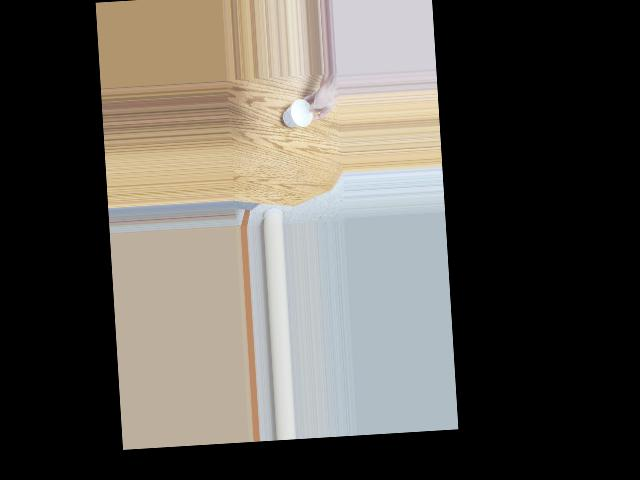cotage: (282, 100, 315, 126)
